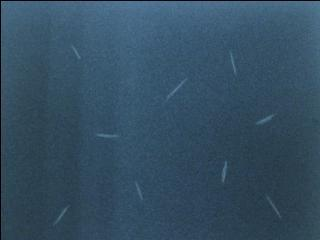scratch: (161, 75, 190, 105), (50, 199, 74, 228), (262, 189, 283, 219), (212, 157, 229, 188), (65, 40, 87, 62), (129, 176, 146, 203), (251, 112, 277, 129), (225, 48, 238, 80), (94, 130, 121, 142)
